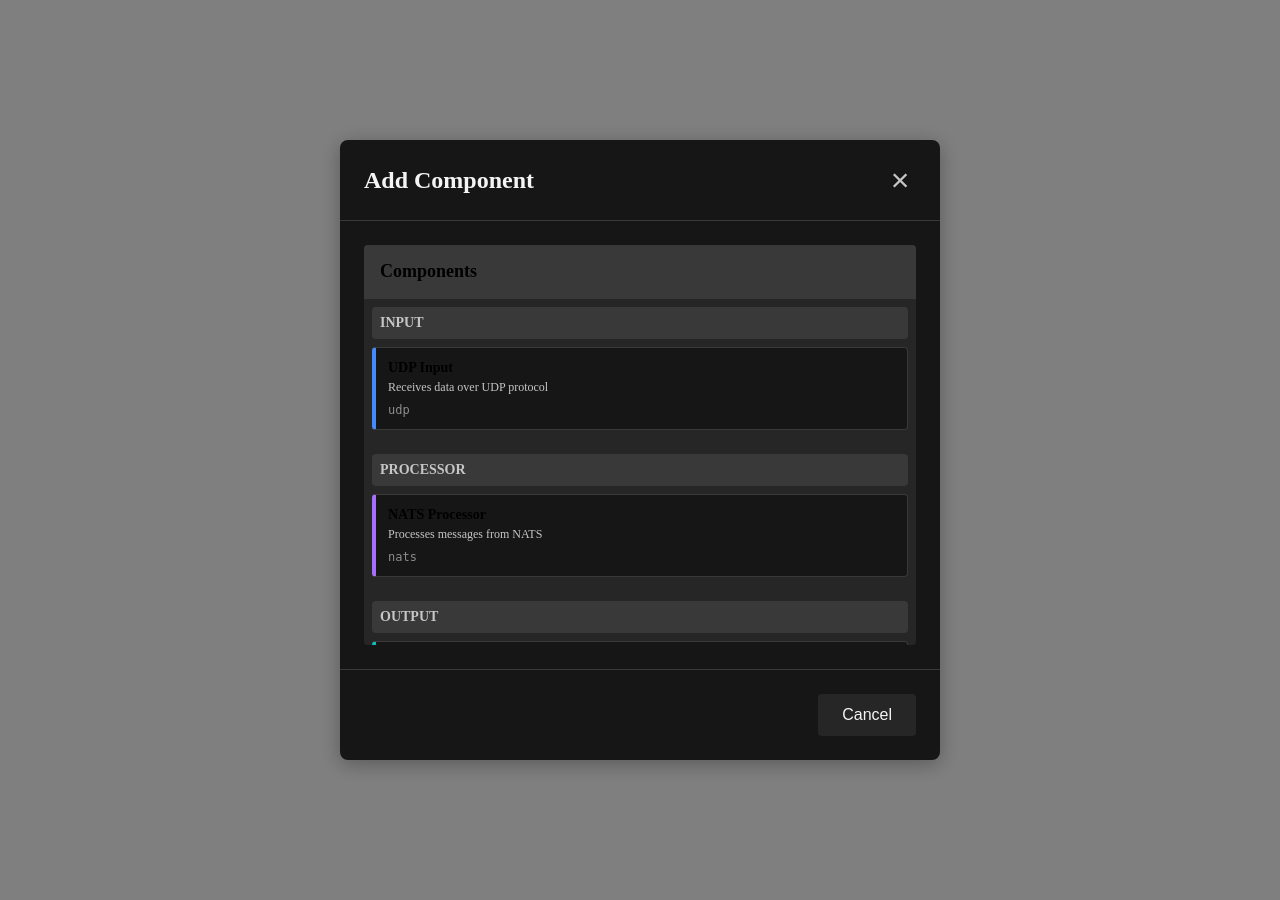
Test: AddComponentModal › Component Type Selection › should show config form after component card is clicked
The width and height of the screenshot is (1280, 900).
Double-click the button "UDP Input Receives data over UDP protocol udp" at (420, 368), box [372, 347, 908, 430]
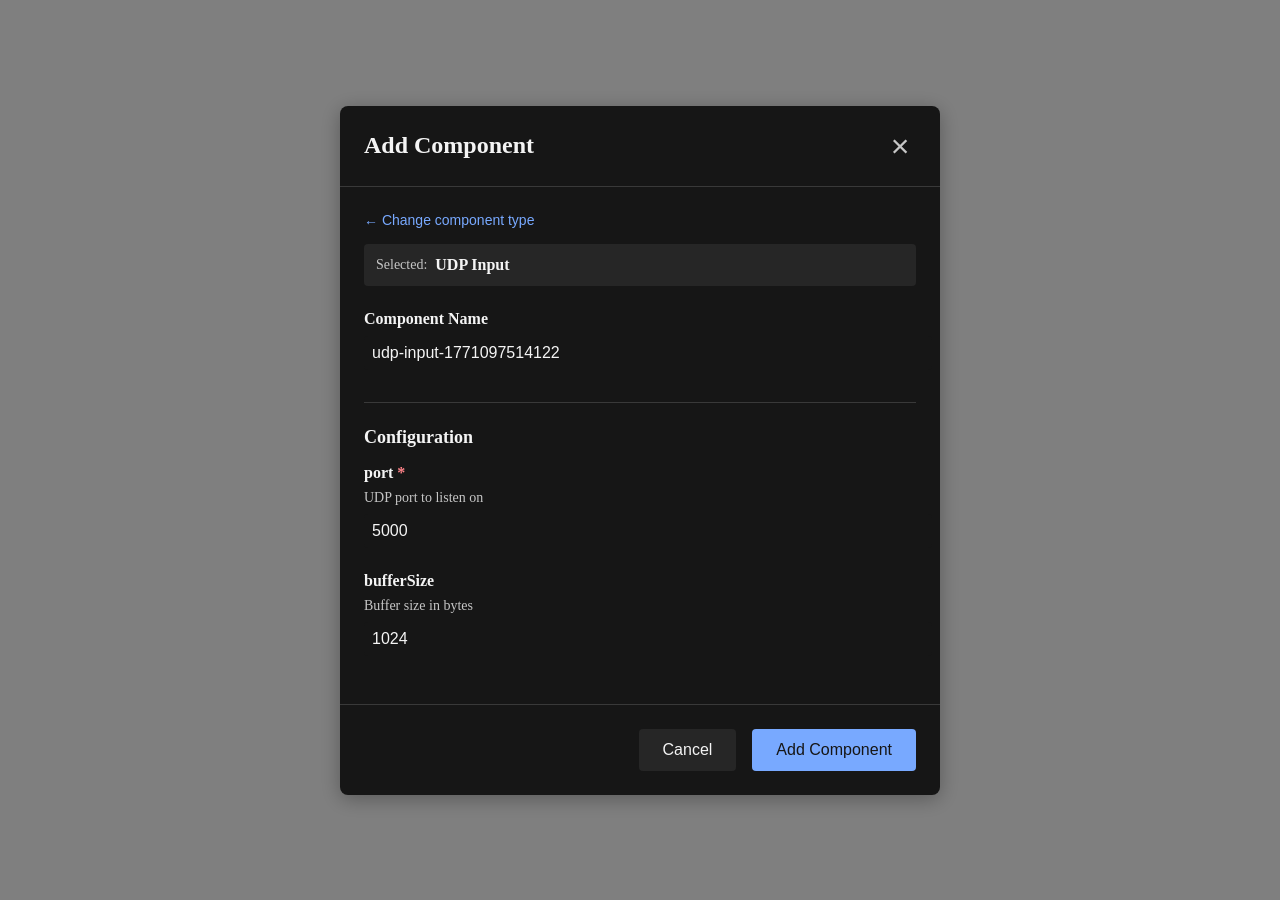
Check: the field named "name" is shown, box [364, 336, 932, 370]
